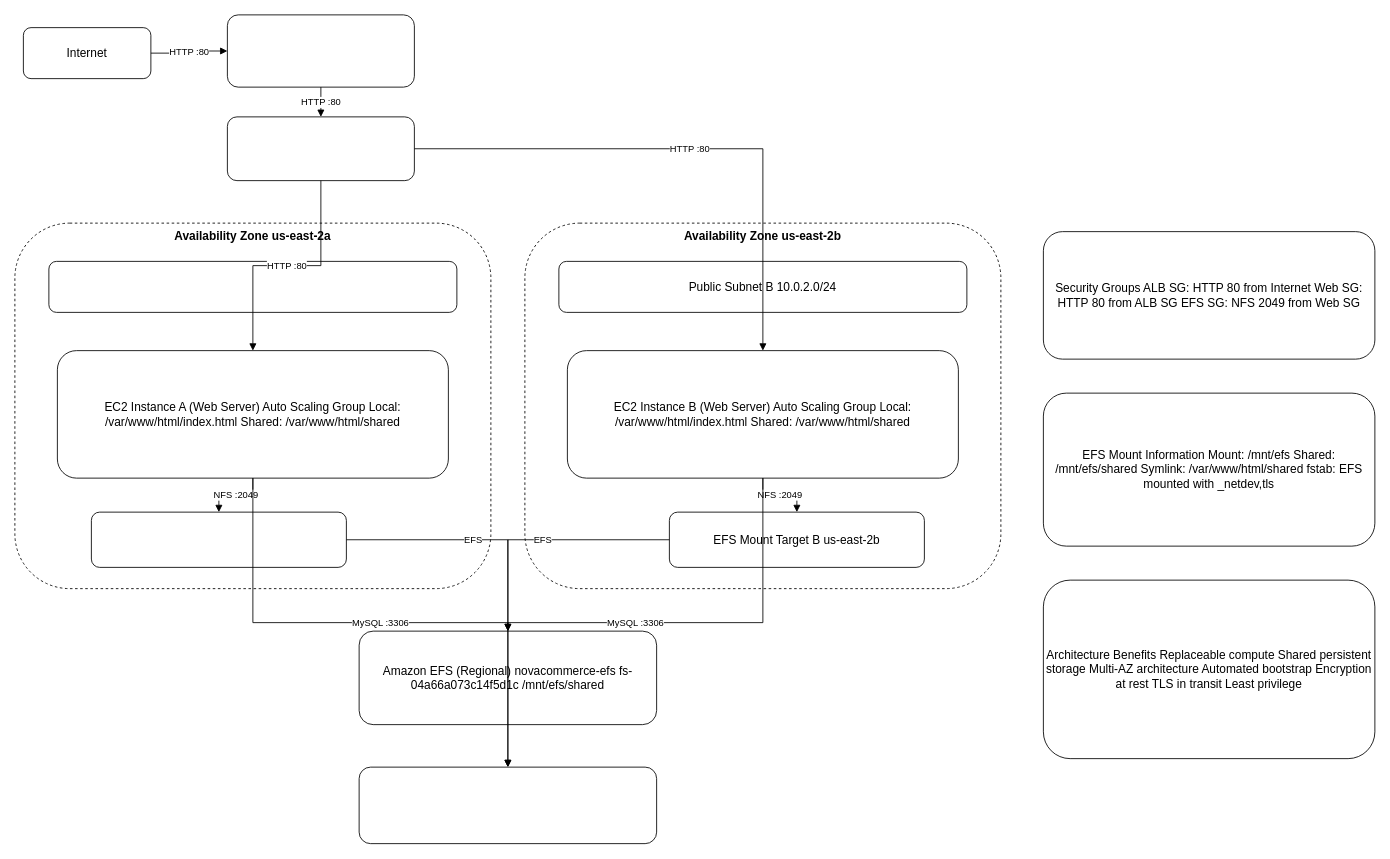
Image size: 1390x859. Some labels were removed from this diagram. Each missing label, with the box of its shape:
Amazon RDS MySQL novacommerce-db TCP 3306: (358, 766, 657, 844)
Application Load Balancer portfolio-alb: (227, 14, 414, 87)
EFS Mount Target A us-east-2a: (91, 511, 346, 567)
Public Subnet A 10.0.1.0/24: (48, 261, 457, 312)
Target Group portfolio-web-tg: (227, 116, 414, 181)
